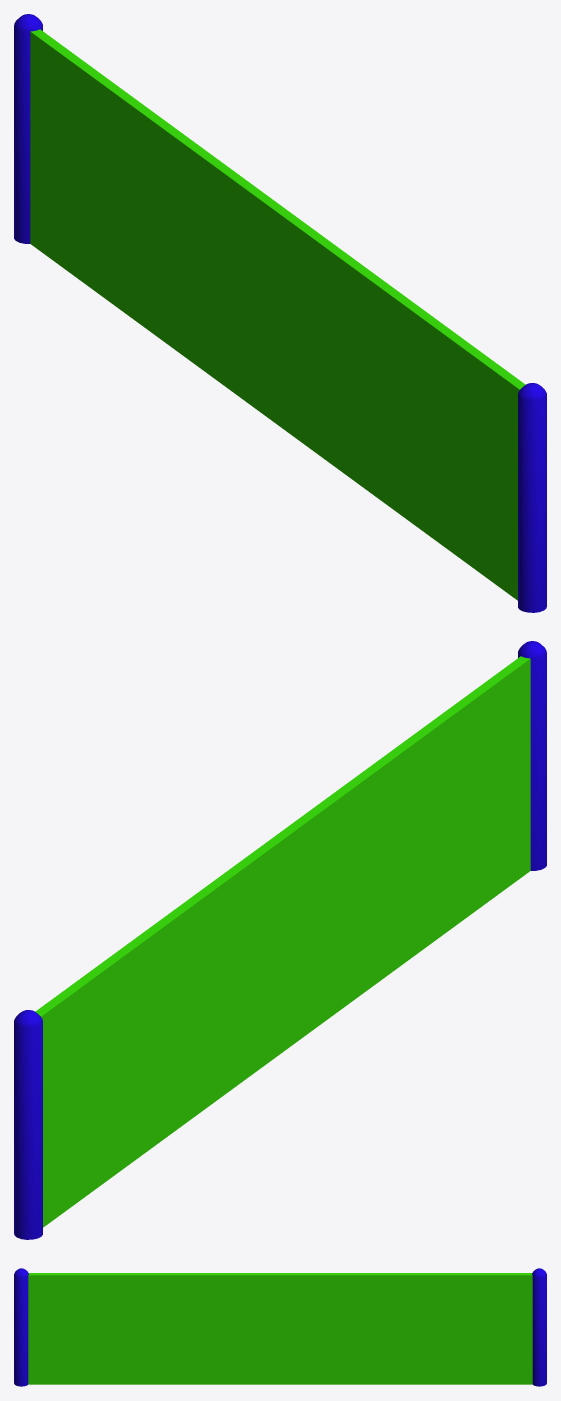
File: Duz_Duvar.fbx
3 views of the same model, one above another, from view 1: azimuth 30°, elevation 25°; view 2: azimuth 150°, elevation 25°; view 3: azimuth 270°, elevation 25° (orthographic). The views are drawn at different scales.
Visible parts, largest first — view 1: Duz_Duvar; view 2: Duz_Duvar; view 3: Duz_Duvar.
Part boxes in pixels (x1,y1,x2,y2): Duz_Duvar: (14,14,546,612); Duz_Duvar: (14,641,546,1239); Duz_Duvar: (14,1268,546,1386).
Size of the model in its own units: 25 by 210 by 885.
